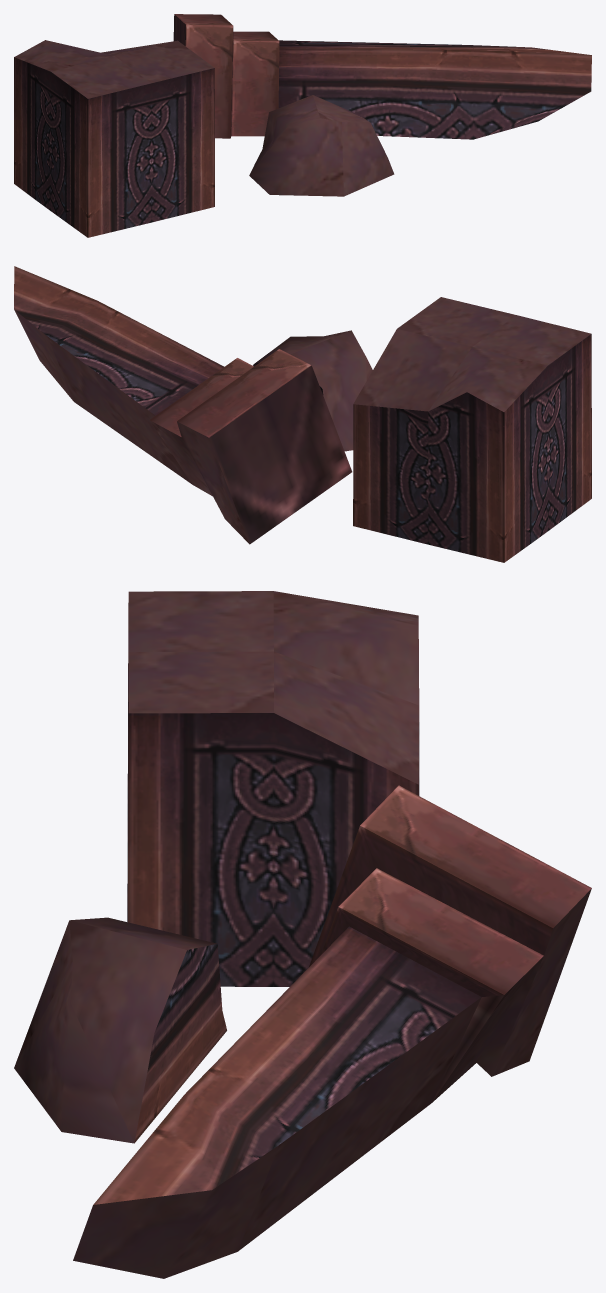
File: Dungeons_03_02_20.FBX
3 renders of one model, top to bottom at view 1: azimuth 30°, elevation 25°; view 2: azimuth 150°, elevation 25°; view 3: azimuth 270°, elevation 25°, orthographic. The views are drawn at different scales.
Parts seen in each view (by area): view 1: Object346; view 2: Object346; view 3: Object346.
Part boxes in pixels (x1,y1,x2,y2): Object346: (14, 14, 591, 237); Object346: (14, 266, 591, 562); Object346: (14, 591, 591, 1278).
Bounding box in the file's own units: 52.85 × 15.15 × 27.15.
